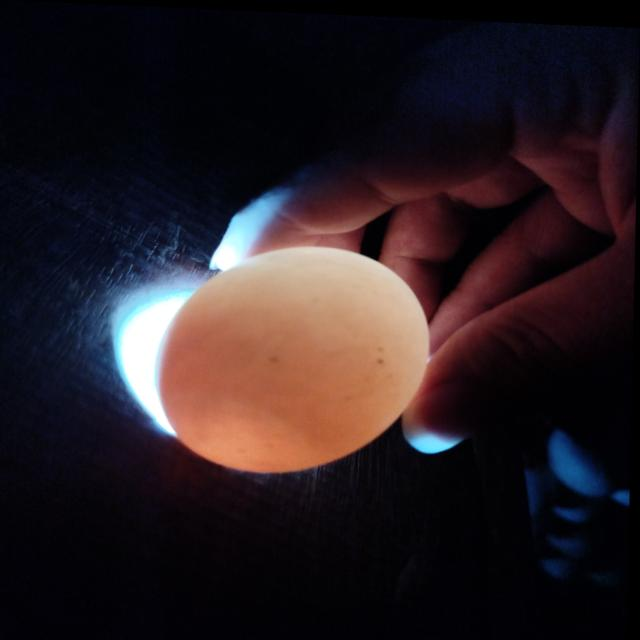Camara de Ar: (167, 401, 315, 470)
